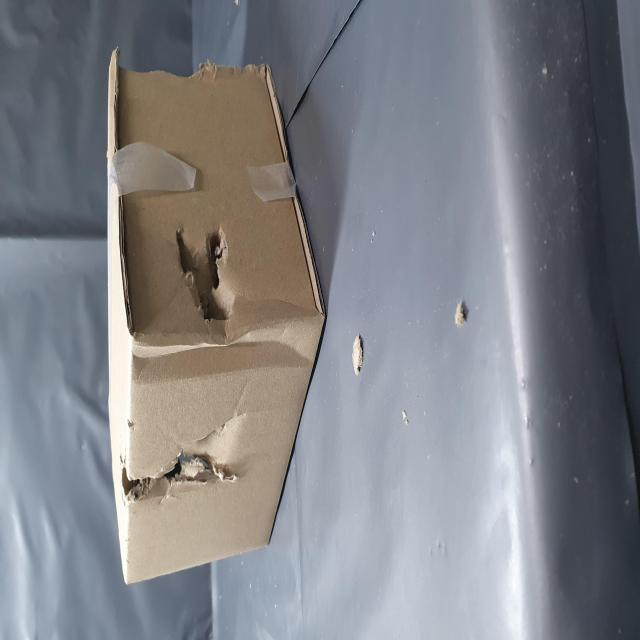damaged: (75, 206, 114, 438), (172, 313, 238, 436)
